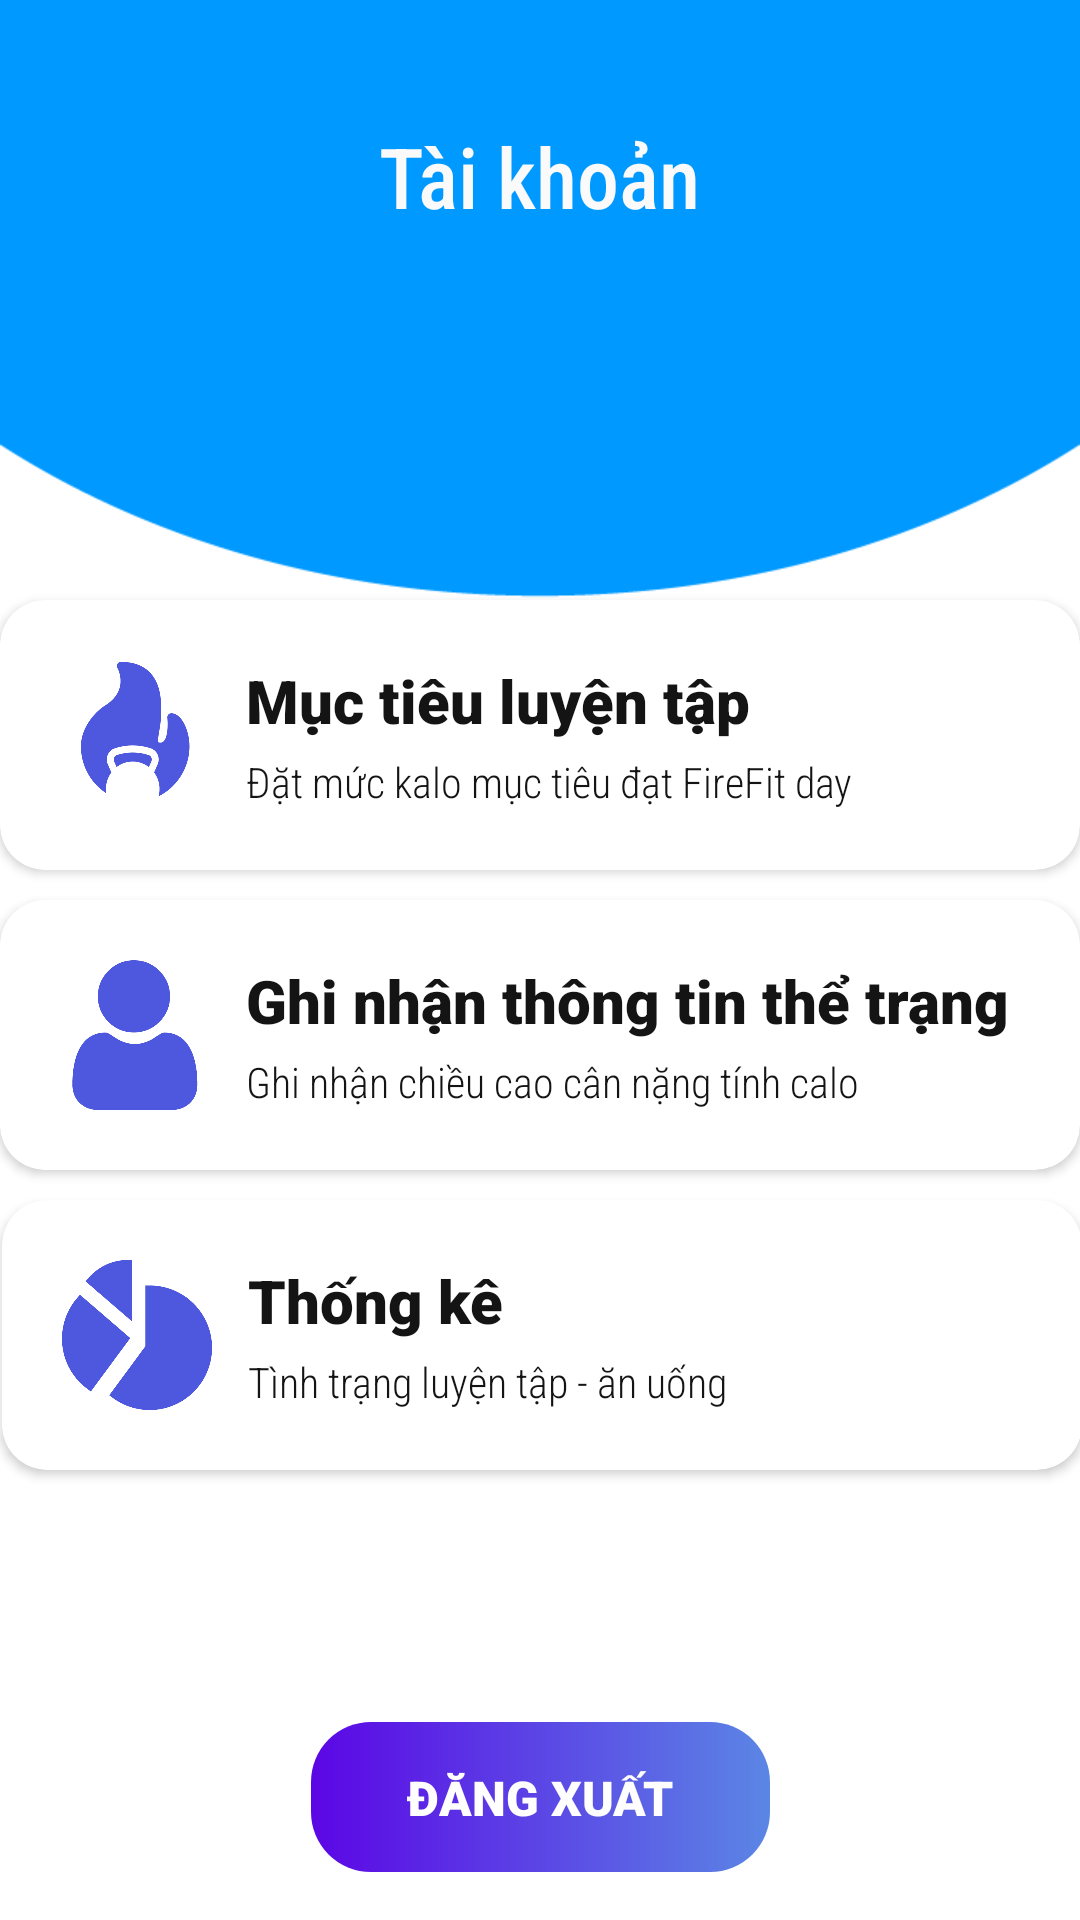

Locate icon controls on the screen. Image size 1080x1920, boxes as (x1, y1, x2, y2).
account: (72, 960, 198, 1110)
pie gragh: (62, 1260, 212, 1410)
